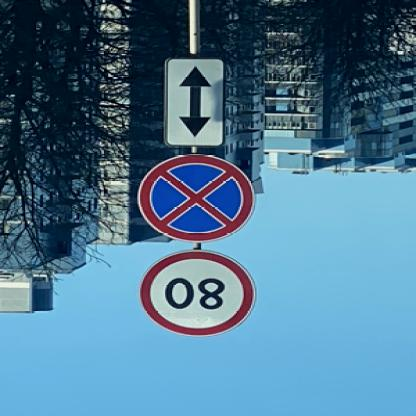speedlimit: (143, 250, 259, 338)
